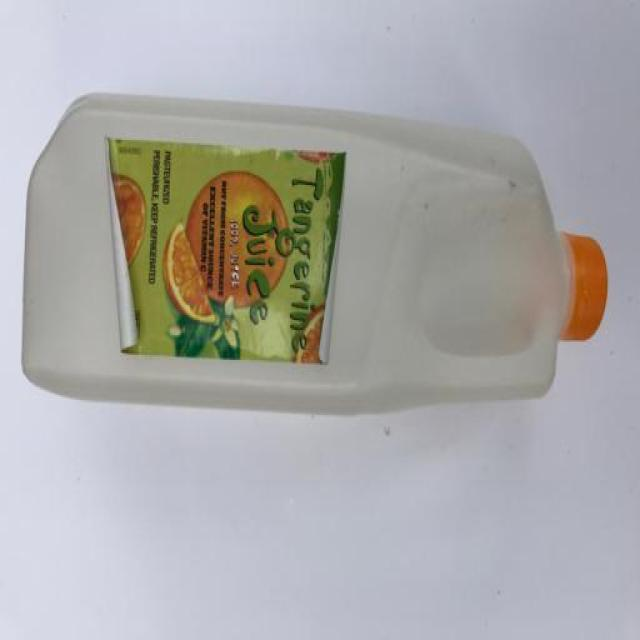plastic: (21, 90, 606, 415), (105, 134, 346, 363)
